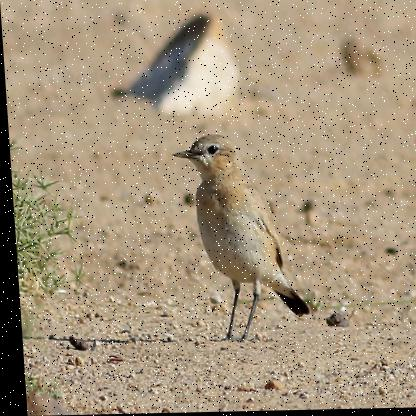Burung: (166, 127, 305, 346)
